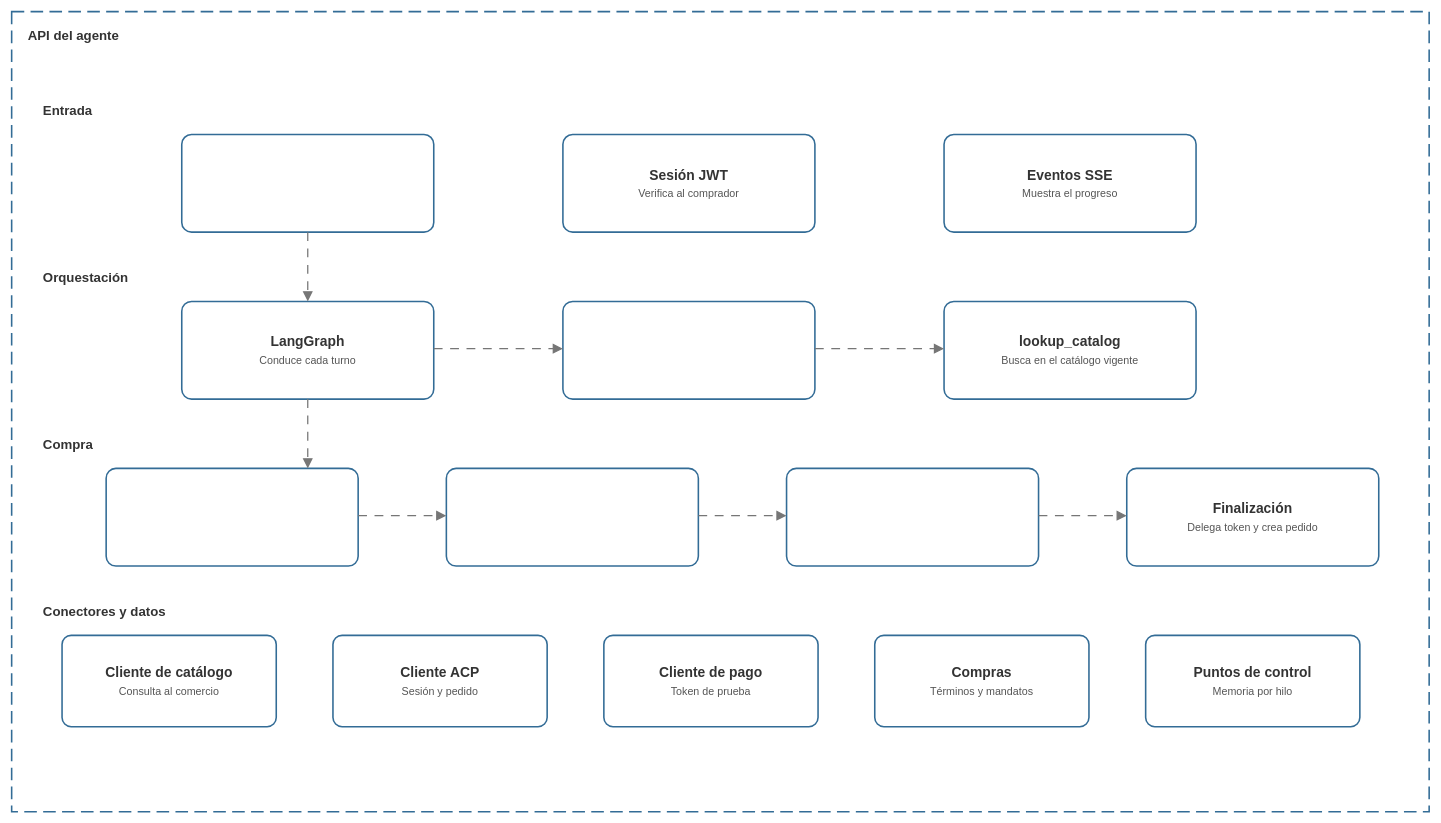
This 1441x823 diagram has some shape labels left out. The shapes that lost their labels are listed below. From the top down, each one's centre as x and y in pixels, then its label:
(x=307, y=183): API HTTP Turnos y compras
(x=688, y=350): Enrutador LLM Interpreta y elige
(x=232, y=517): Selección Filtra y propone variante
(x=572, y=517): Sesión ACP Valida total y prepara sesión
(x=912, y=517): Aprobación AP2 Firma tras consentimiento
